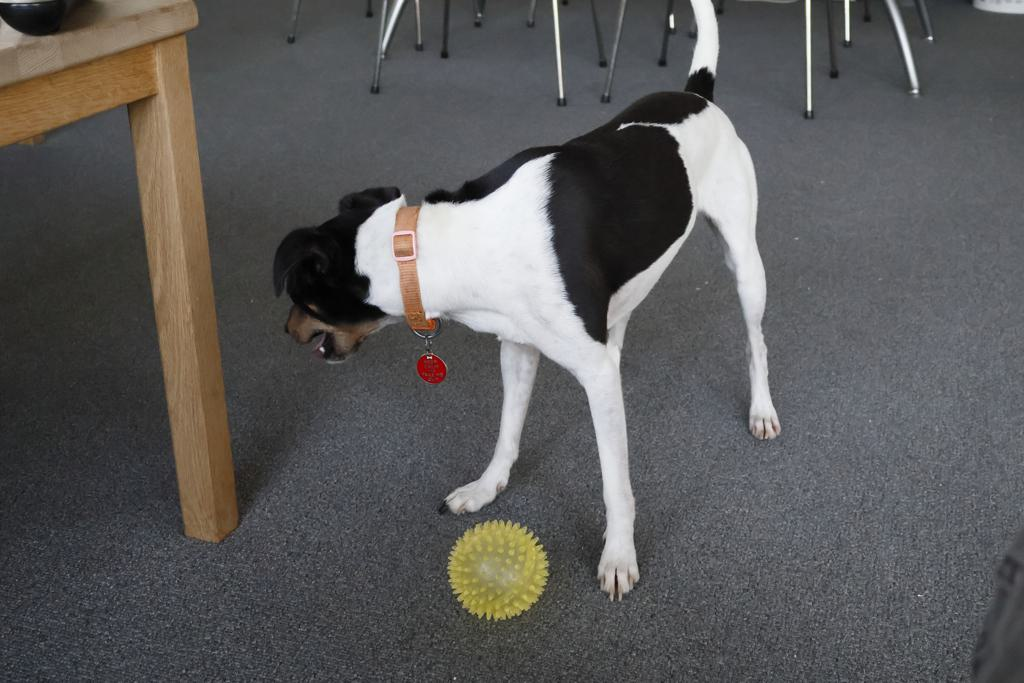Dog: (257, 0, 806, 604)
Humanoid: (945, 513, 1024, 683)
